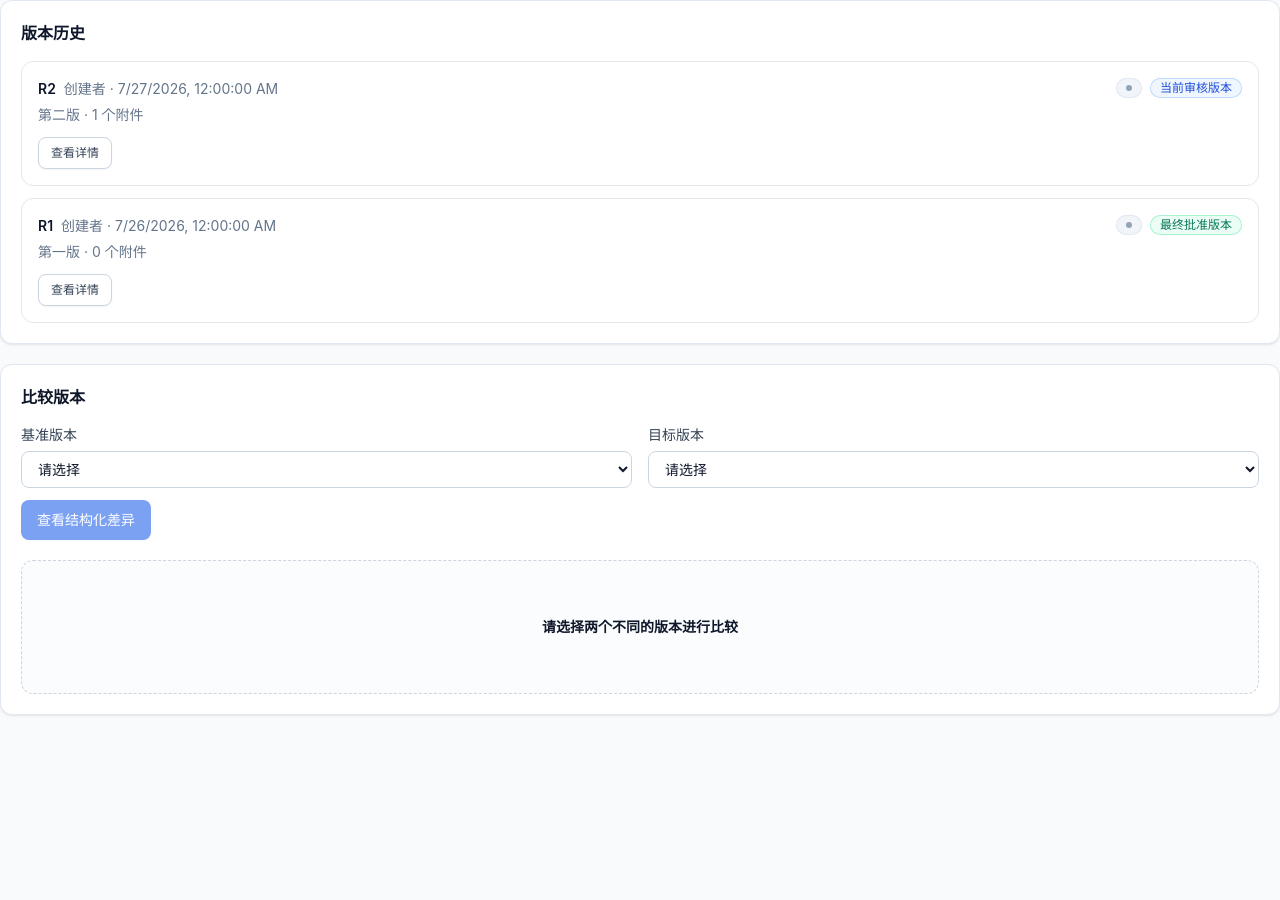
RevisionHistoryPanel › lazy loads revision detail
The width and height of the screenshot is (1280, 900).
What coordinates should you click on to do the following:
click the 1st button "查看详情"
I would click on:
 (75, 153)
Its box is [38,137,112,169].
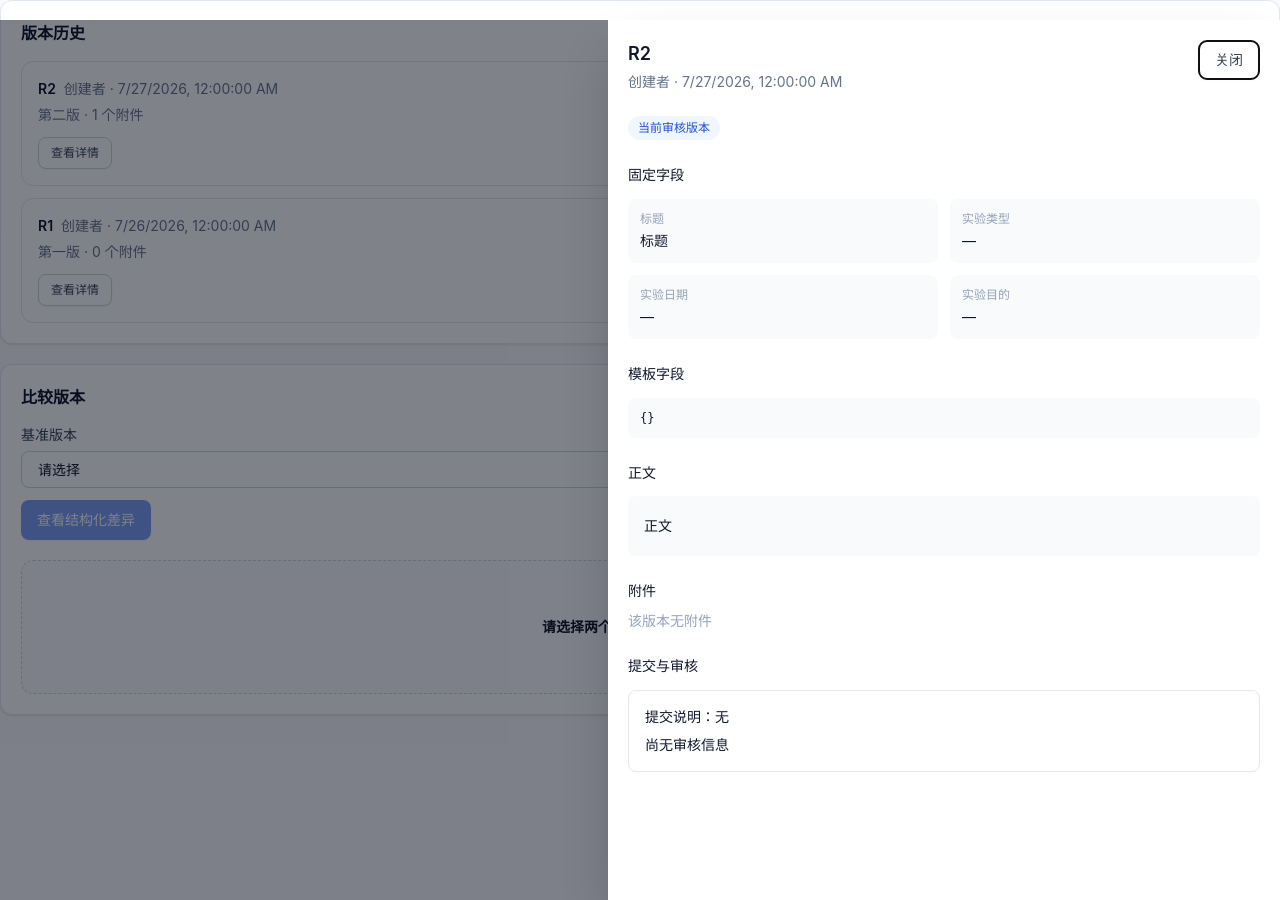
Expected: the dialog named "版本详情" is shown
